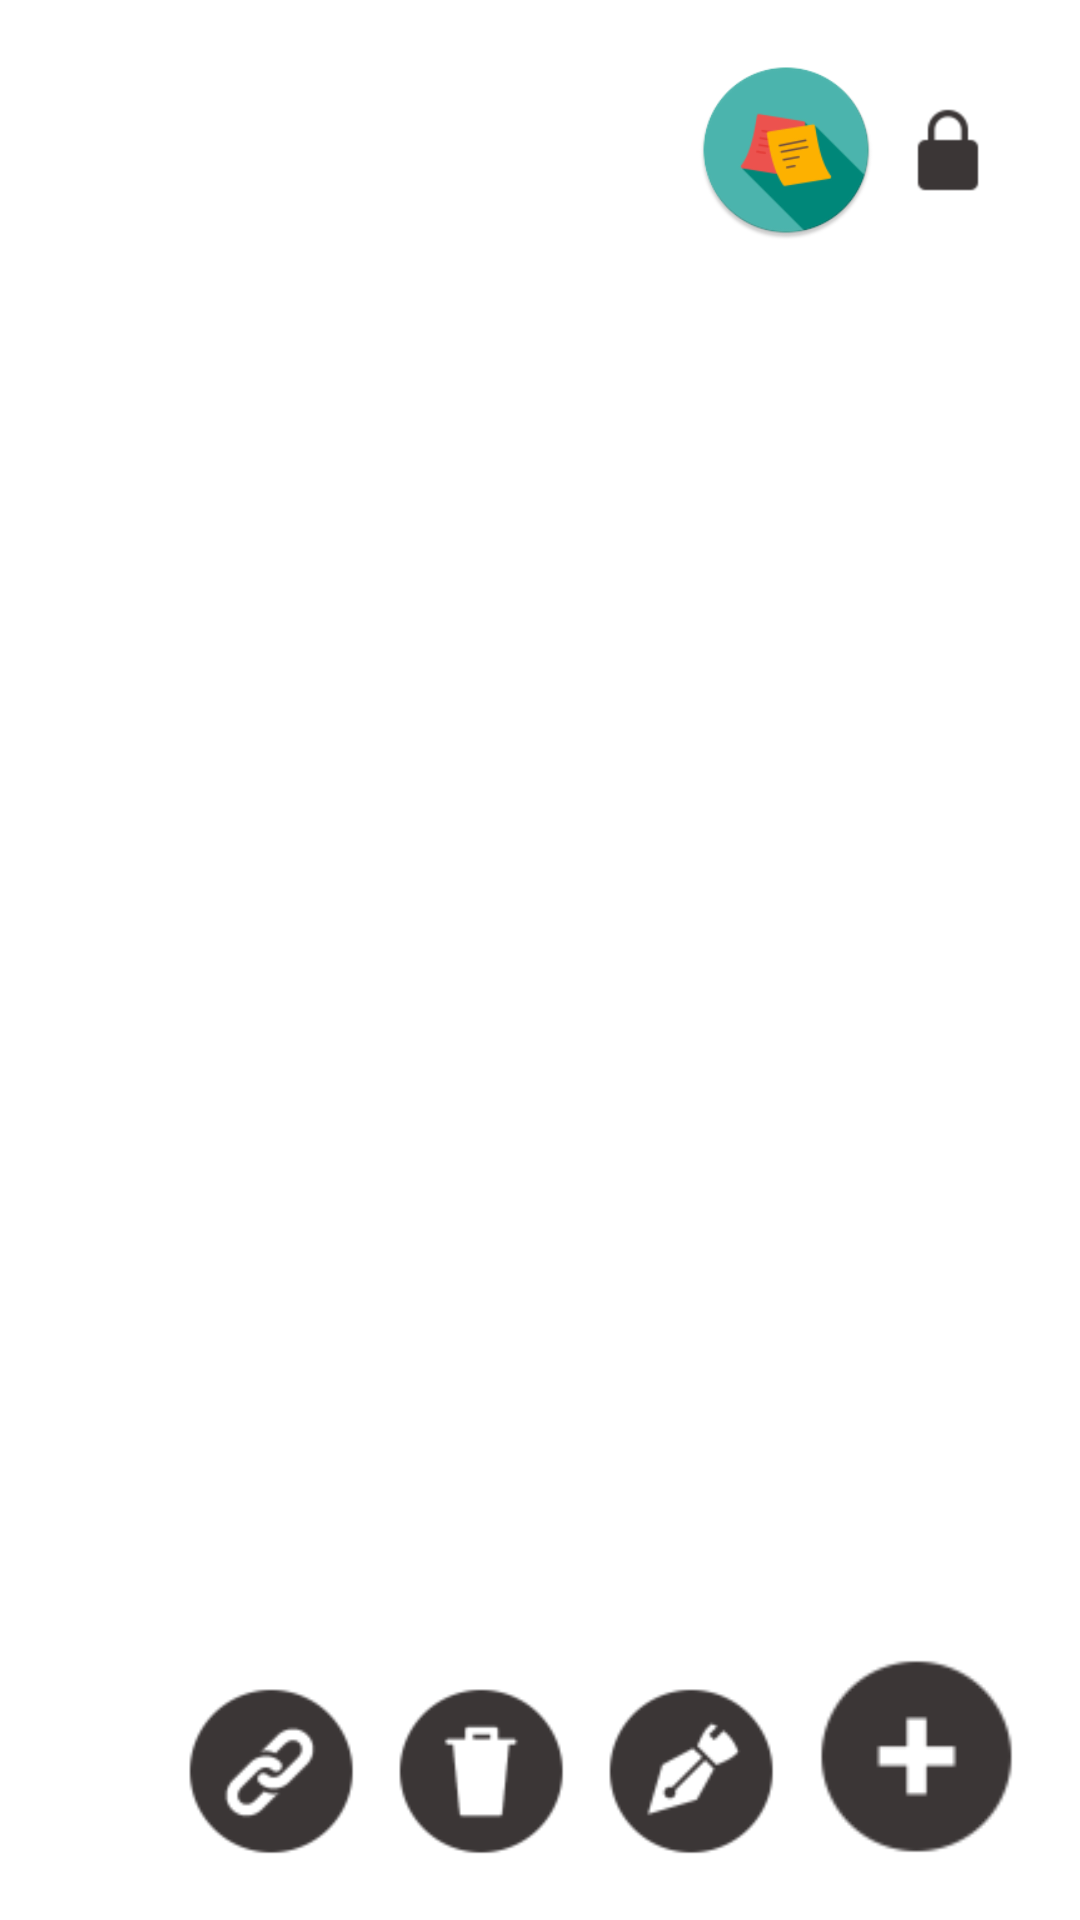

Icons on this 1080*1920 Android screen, each with the point to tap as [x,y]:
agregar: [916,1756]
contrasena: [948,150]
eliminar: [481,1771]
enlazar: [271,1771]
modificar: [691,1771]
